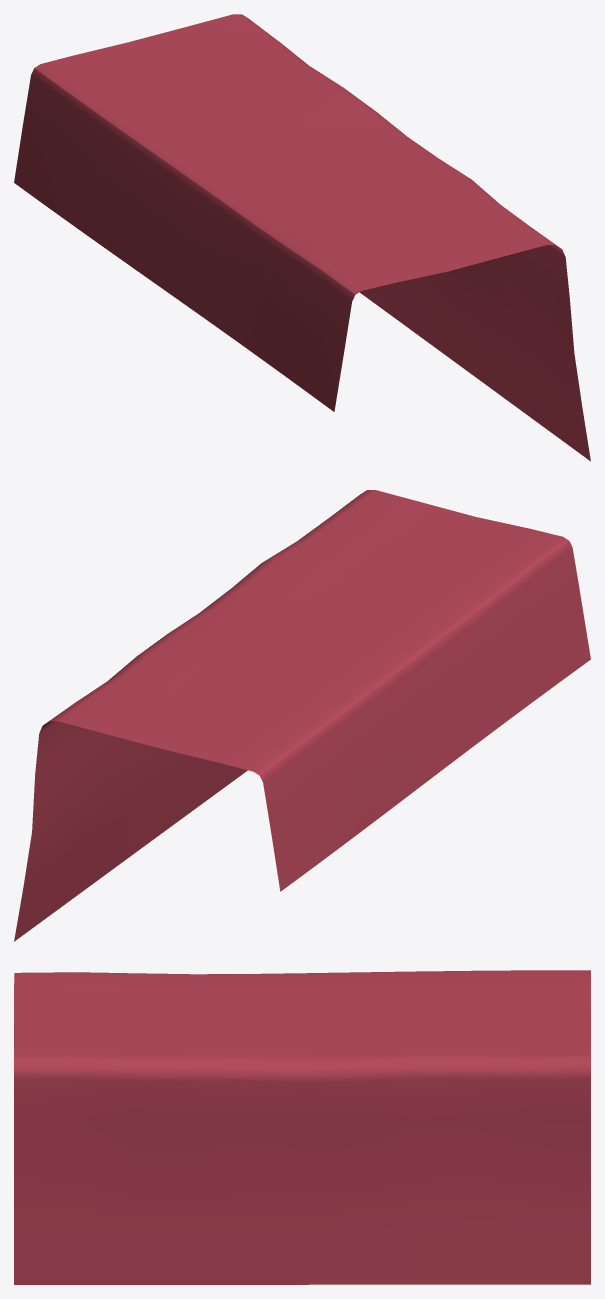
Rendered from carpet_04.fbx.
3 renders of one model, top to bottom at view 1: azimuth 30°, elevation 25°; view 2: azimuth 150°, elevation 25°; view 3: azimuth 270°, elevation 25°, orthographic. The views are drawn at different scales.
Parts seen in each view (by area): view 1: pPlane9; view 2: pPlane9; view 3: pPlane9.
Boxes of the visible parts, bbox=[...] form: pPlane9: bbox=[14, 14, 590, 461]; pPlane9: bbox=[14, 490, 590, 941]; pPlane9: bbox=[14, 970, 590, 1284].
Size of the model in its own units: 0.6469 by 0.5366 by 1.33.
